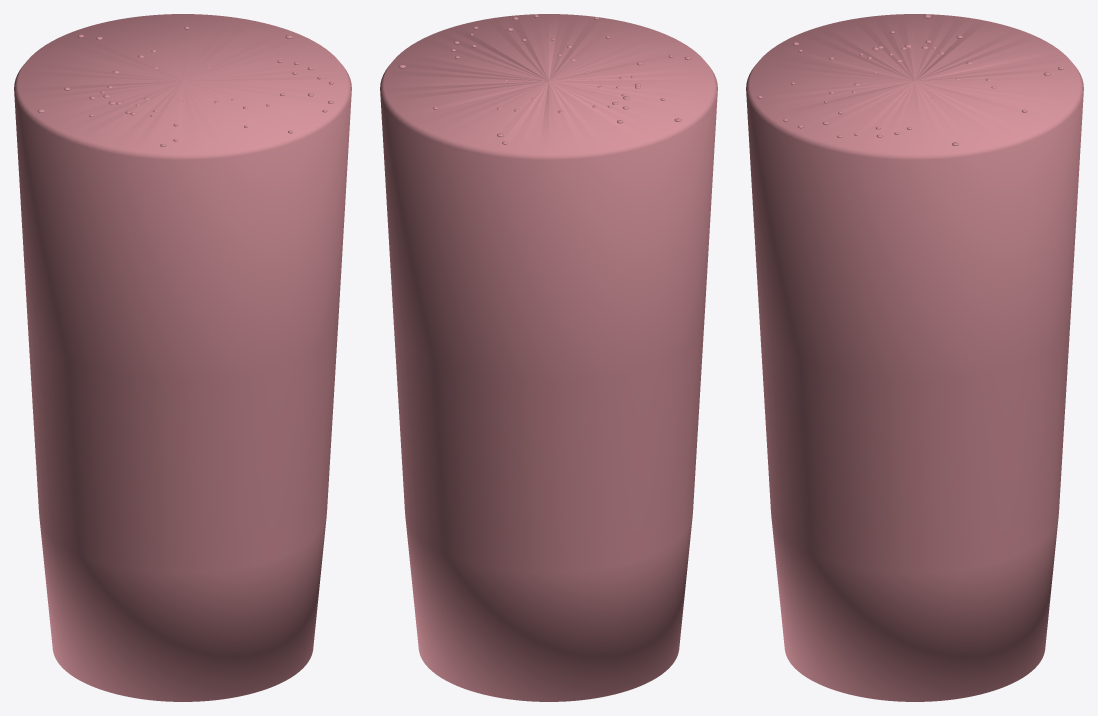
The model's file is sweet-shake-cherry.glb.
3 renders of one model, left to right at view 1: azimuth 30°, elevation 25°; view 2: azimuth 150°, elevation 25°; view 3: azimuth 270°, elevation 25°, orthographic.
Visible parts, largest first — view 1: cherry shake; view 2: cherry shake; view 3: cherry shake.
Part boxes in pixels (left/top/right/bottom): cherry shake: left=14, top=14, right=351, bottom=701; cherry shake: left=380, top=14, right=717, bottom=701; cherry shake: left=746, top=14, right=1083, bottom=701.
Size of the model in its own units: 1.3 by 2.39 by 1.3.
